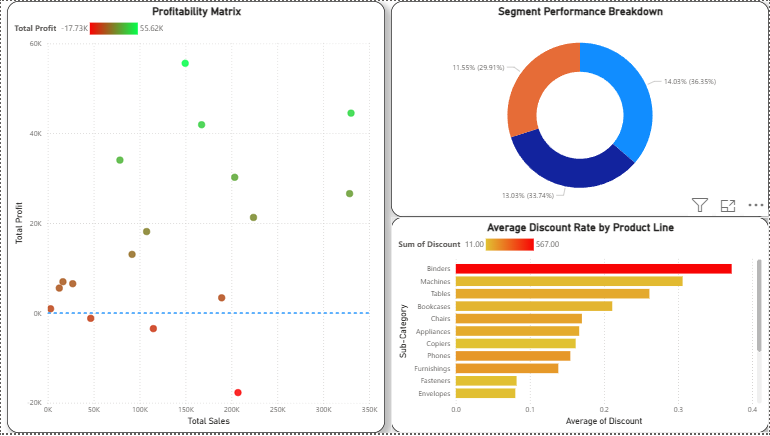

This screenshot's page, from the dashboard's own definition file:
{"tool":"powerbi","page":{"name":"Product Optimization","canvas":[1280,720],"ordinal":2},"visuals":[{"type":"scatterChart","title":"Profitability Matrix","fields":{"X":["Sample - Superstore.Total Sales"],"Y":["Sample - Superstore.Total Profit"],"Category":["Sample - Superstore.Sub-Category"]},"box":[10,0,630,720],"z":0},{"type":"donutChart","title":"Segment Performance Breakdown","fields":{"Category":["Sample - Superstore.Segment"],"Y":["Sample - Superstore.Profit Margin"]},"box":[650,0,630,360],"z":1},{"type":"clusteredBarChart","title":"Average Discount Rate by Product Line","fields":{"Category":["Sample - Superstore.Sub-Category"],"Y":["Avg(Sample - Superstore.Discount)"]},"box":[650,360,630,360],"z":2}]}

Visuals, with their boxes in screenshot pixels (x1, y1, x2, y2), scaled from the page's 1280x720 canvas onto the 770x436 screenshot:
"Profitability Matrix" scatterChart: region(6, 0, 385, 435)
"Segment Performance Breakdown" donutChart: region(391, 0, 769, 218)
"Average Discount Rate by Product Line" clusteredBarChart: region(391, 218, 769, 435)
